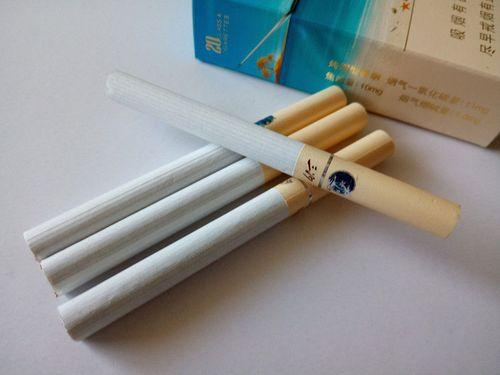smoke: (59, 129, 396, 341), (40, 102, 370, 297), (105, 67, 462, 241), (23, 86, 348, 262)
